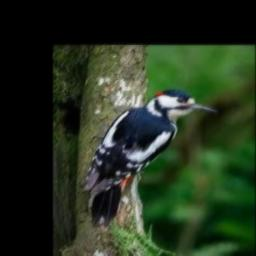Woodpecker: (84, 89, 217, 229)
